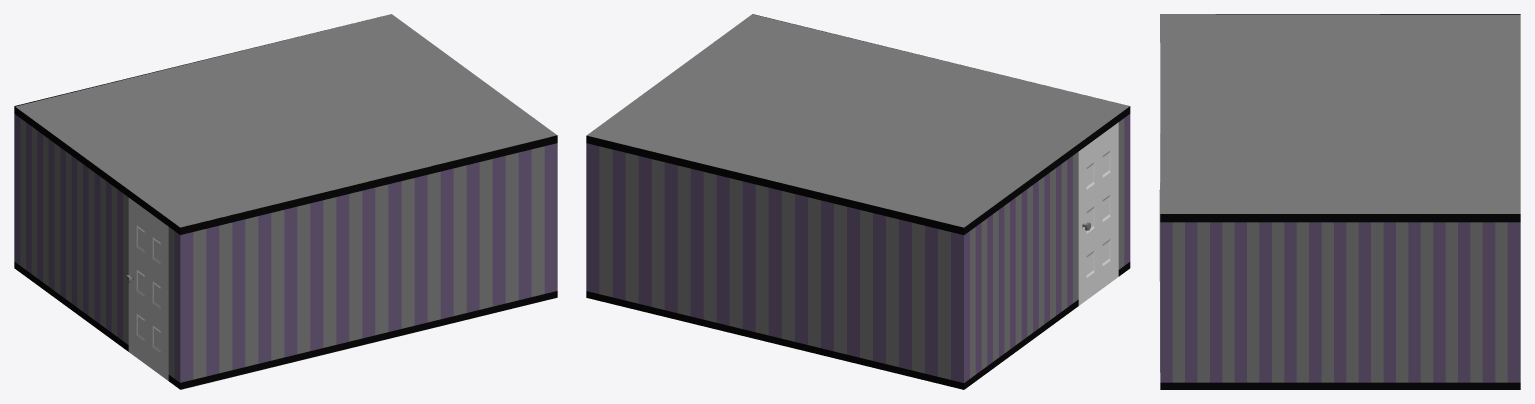
The model's file is Bedroom_Assets.fbx.
3 views of the same model, side by side, from view 1: azimuth 30°, elevation 25°; view 2: azimuth 150°, elevation 25°; view 3: azimuth 270°, elevation 25° (orthographic). The views are drawn at different scales.
Visible parts, largest first — view 1: Wall.003, Roof, Wall.001, Door; view 2: Wall, Roof, Wall.001, Door; view 3: Roof, Wall.002, Wall.001.
Boxes of the visible parts, x1,y1,x2,y2 form: Wall.003: [180, 135, 557, 389]; Roof: [15, 14, 556, 227]; Wall.001: [14, 106, 180, 389]; Door: [125, 198, 168, 380]; Wall: [586, 135, 963, 389]; Roof: [587, 14, 1129, 227]; Wall.001: [964, 106, 1130, 389]; Door: [1078, 122, 1118, 305]; Roof: [1160, 14, 1520, 213]; Wall.002: [1160, 214, 1520, 389]; Wall.001: [1160, 14, 1520, 189].
Size of the model in its own units: 743 by 300 by 557.
